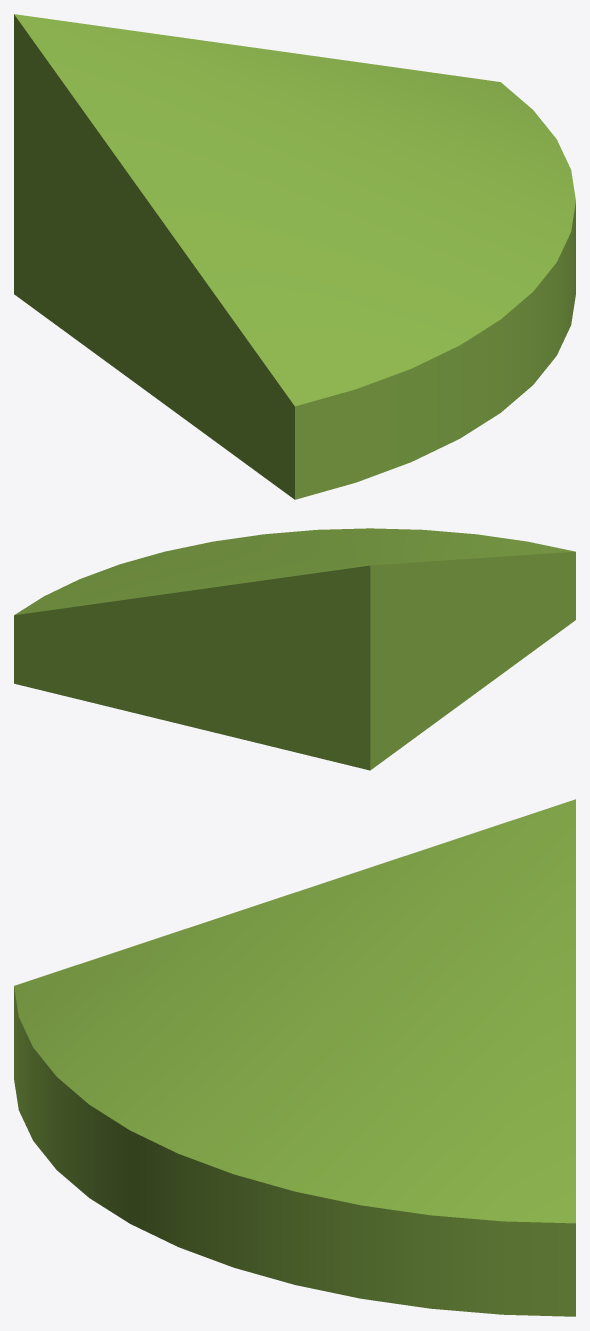
File: tile289.dae
The picture shows the model from 3 angles, top to bottom: view 1: azimuth 30°, elevation 25°; view 2: azimuth 150°, elevation 25°; view 3: azimuth 270°, elevation 25°; orthographic projection. The views are drawn at different scales.
Visible parts, largest first — view 1: tile289; view 2: tile289; view 3: tile289.
Part boxes in pixels (x1,y1,x2,y2): tile289: (14,14,575,499); tile289: (14,528,575,770); tile289: (14,799,575,1316).
Bounding box in the file's own units: 1 × 0.55 × 1.
